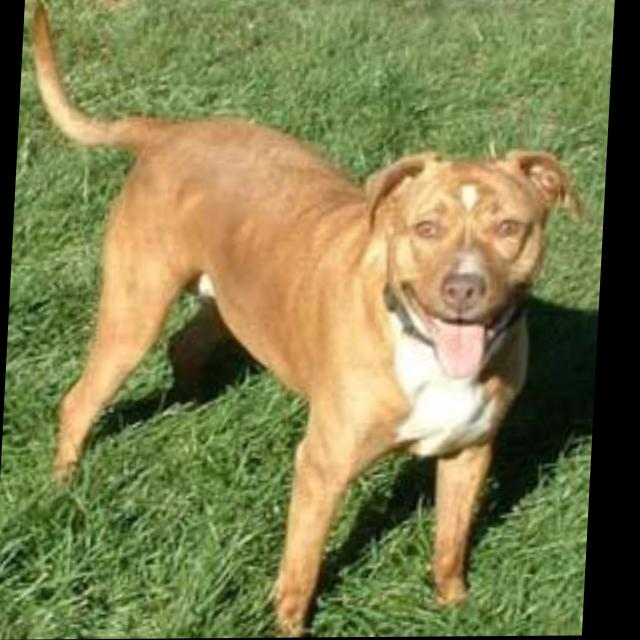amstaff: (3, 1, 597, 640)
